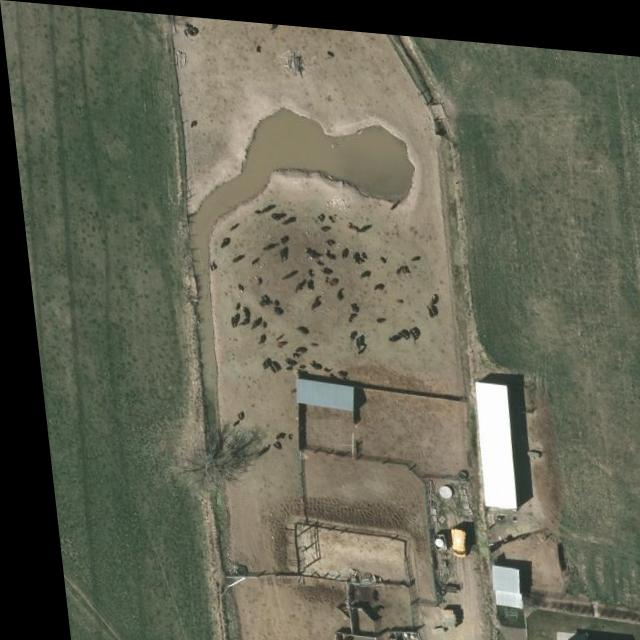vehicle: (438, 521, 455, 551)
